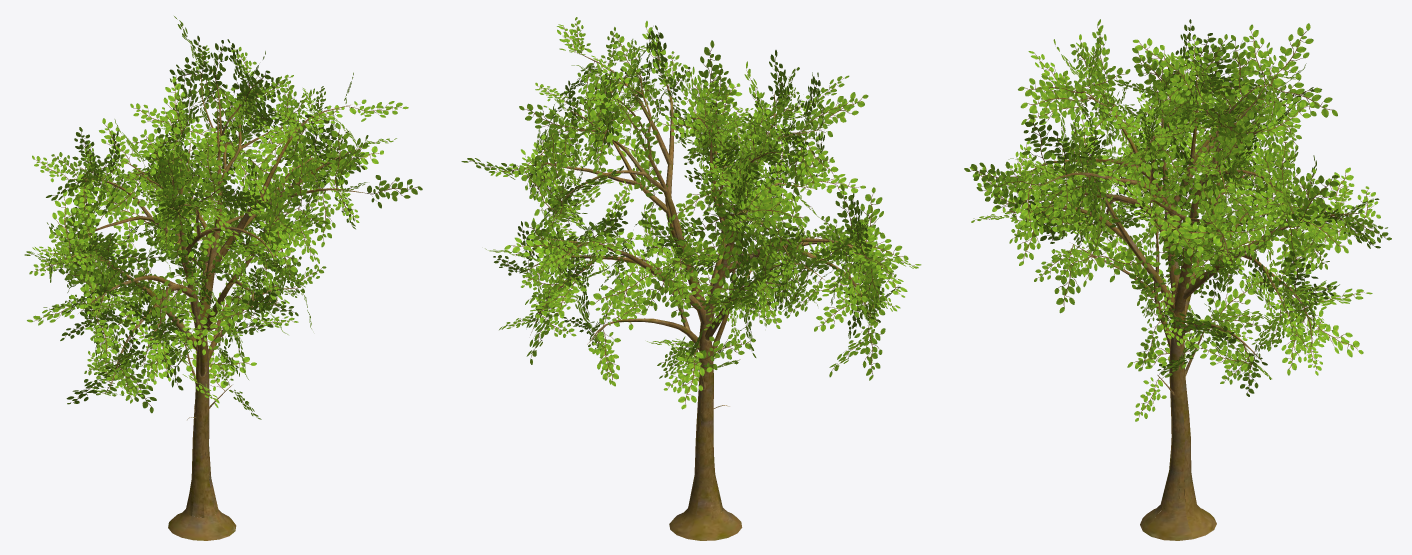
The model's file is tree_maple.glb.
3 views of the same model, side by side, from view 1: azimuth 30°, elevation 25°; view 2: azimuth 150°, elevation 25°; view 3: azimuth 270°, elevation 25° (orthographic). The views are drawn at different scales.
Parts seen in each view (by area): view 1: tree_maple; view 2: tree_maple; view 3: tree_maple.
Part boxes in pixels (left/top/right/bottom): tree_maple: left=24, top=16, right=422, bottom=540; tree_maple: left=461, top=17, right=921, bottom=540; tree_maple: left=964, top=19, right=1391, bottom=540.
Bounding box in the file's own units: 6.61 × 7.5 × 5.68.
Materials: 2 (2 with a texture image).
